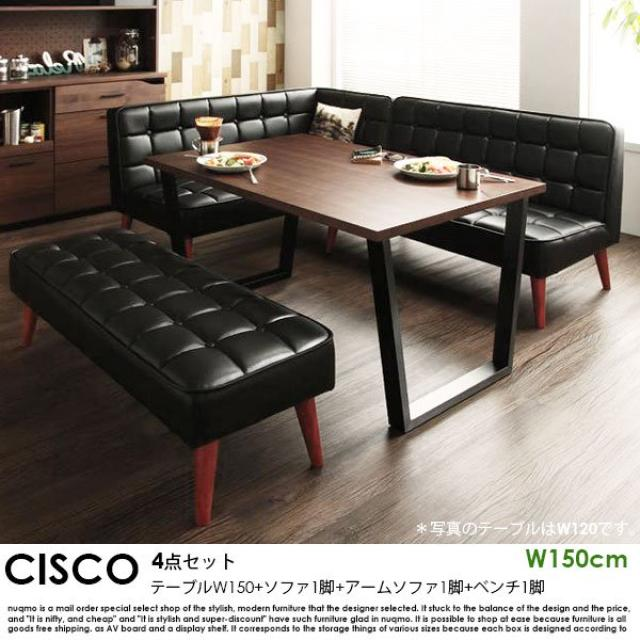vintage chair: (4, 226, 339, 529)
vintage desk: (151, 133, 546, 436)
vintage sofa: (104, 82, 620, 322)
